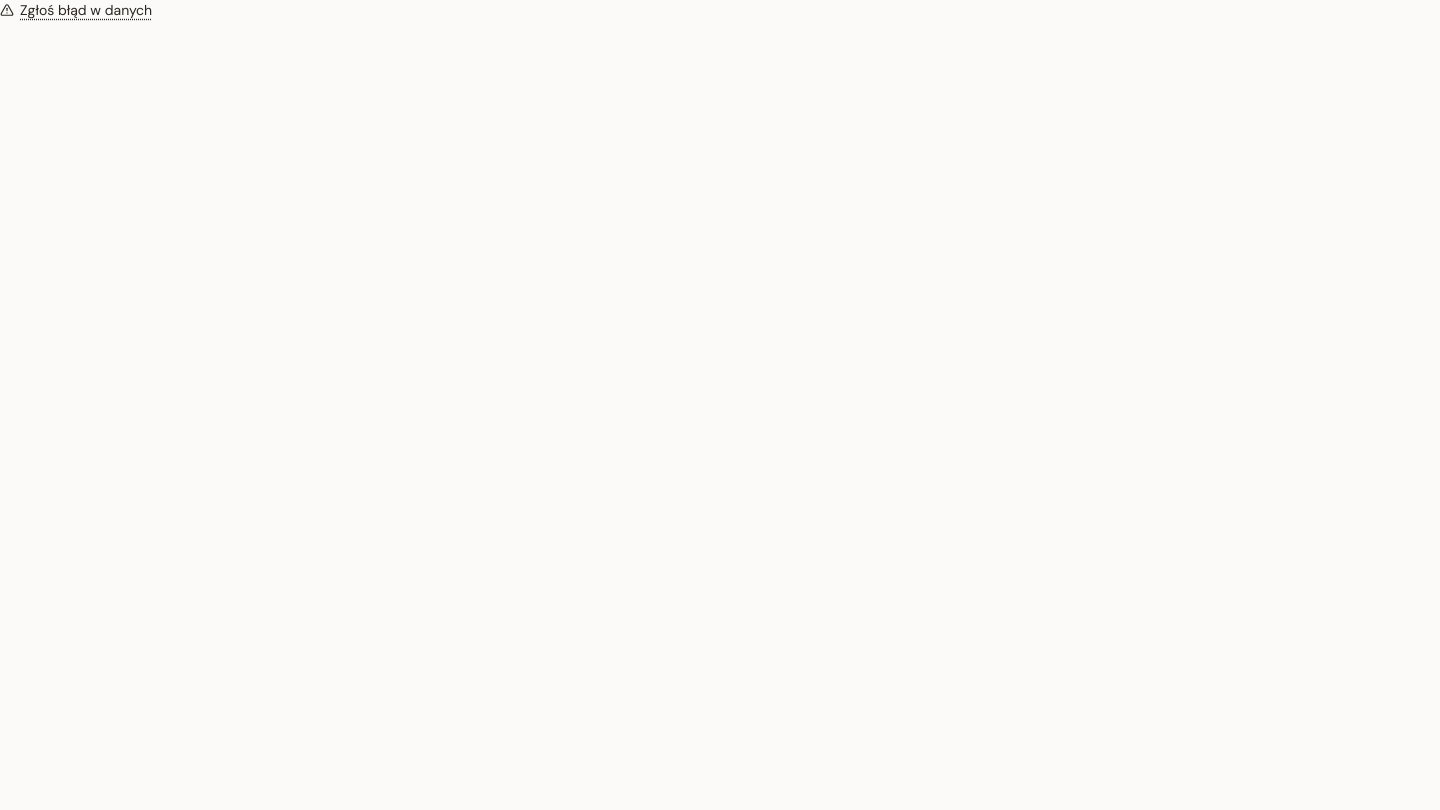
AN-12-079 — „Zgłoś błąd w danych”: komunikat przy polu + fokus › poprawienie pola zdejmuje błąd, a wysyłka idzie (1 INSERT)
This screenshot has width=1440, height=810.
Later steps or results of the test are not shown.
Click the button "Zgłoś błąd w danych".
click(76, 10)  # box [0,0,152,20]
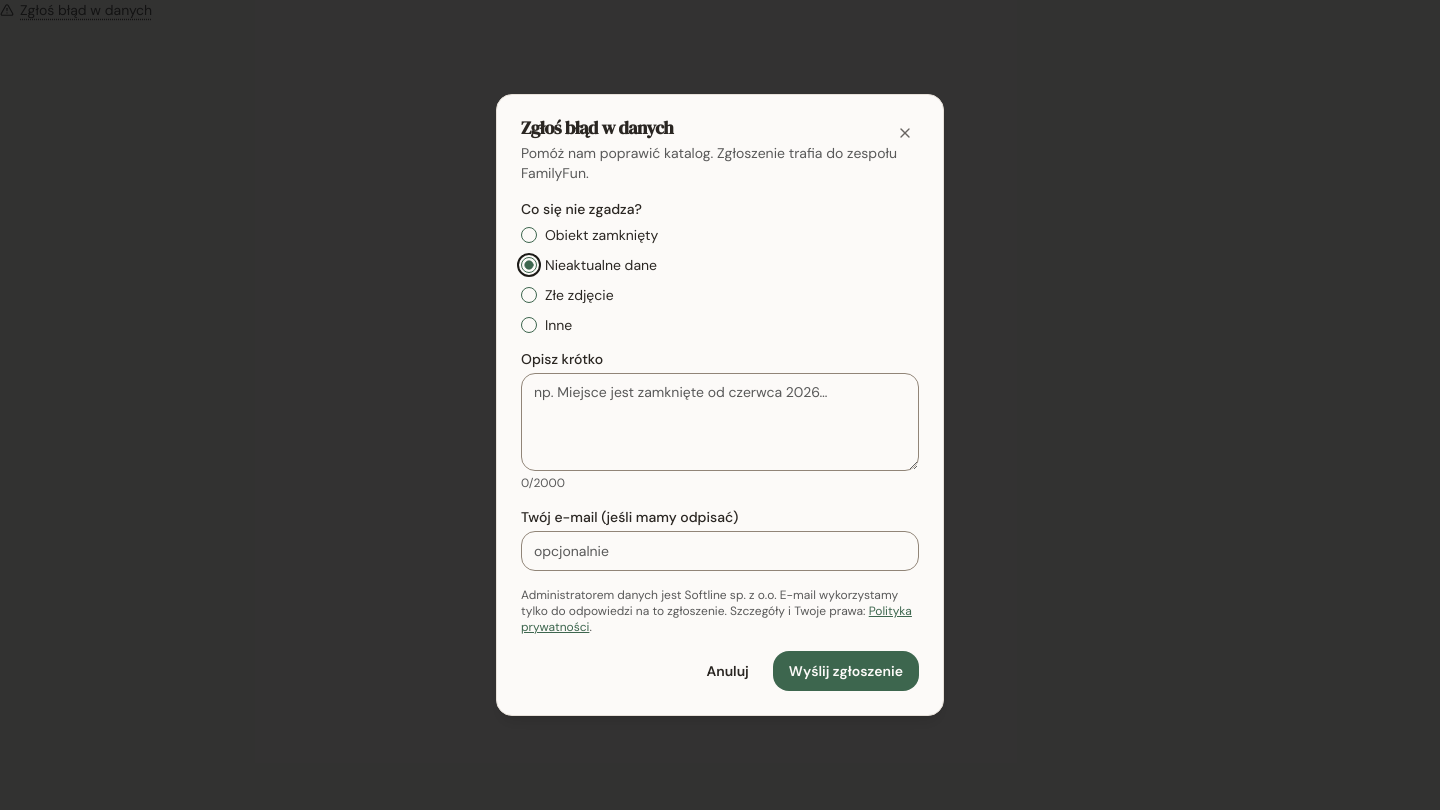
Click the button "Wyślij zgłoszenie".
click(846, 671)  # box [773,651,919,691]
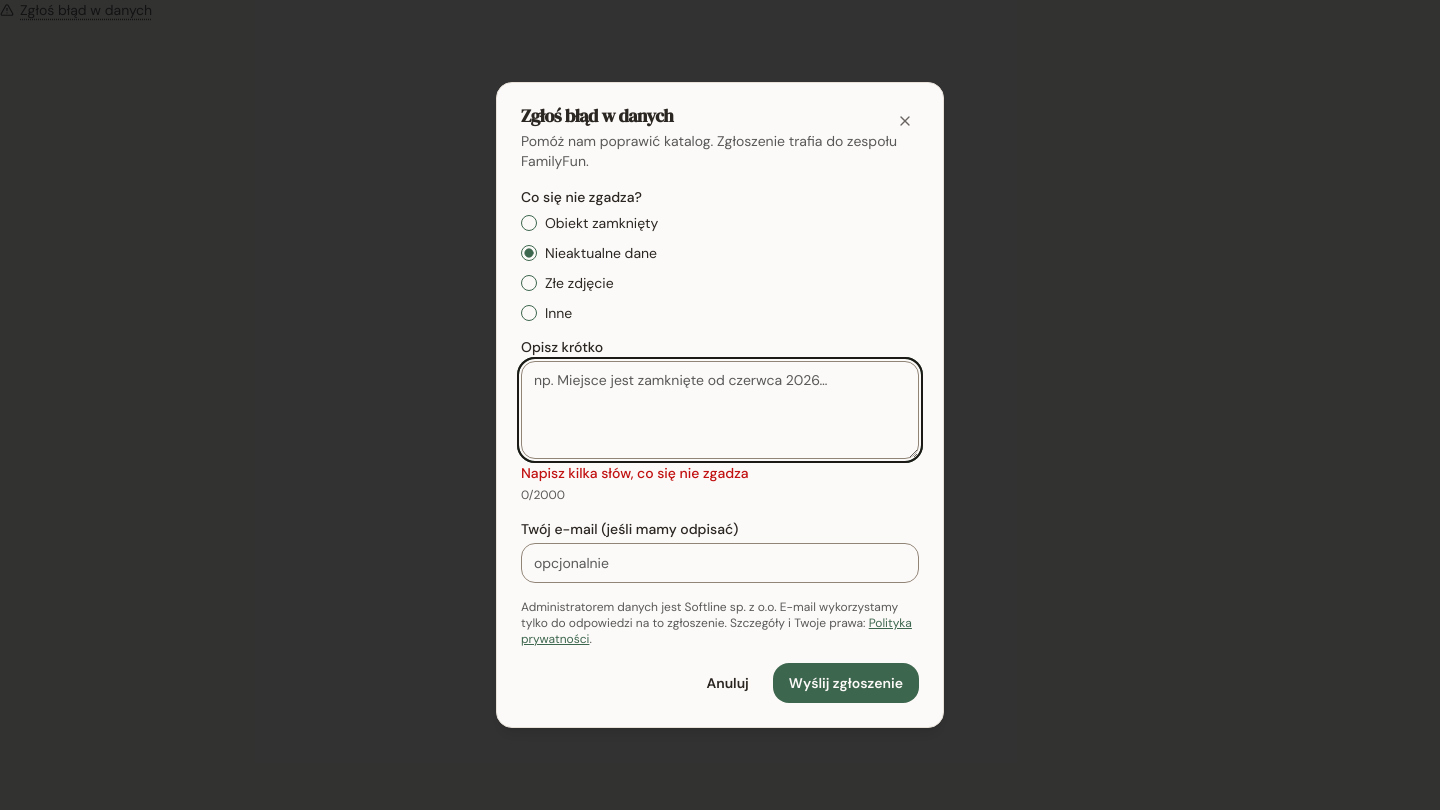
Check: the text box labelled "Opisz krótko" is marked as invalid
Type "Godziny otwarcia są nieaktualne." into the text box labelled "Opisz krótko".
click(720, 410); type("Godziny otwarcia są nieaktualne.")  # box [521,361,919,459]
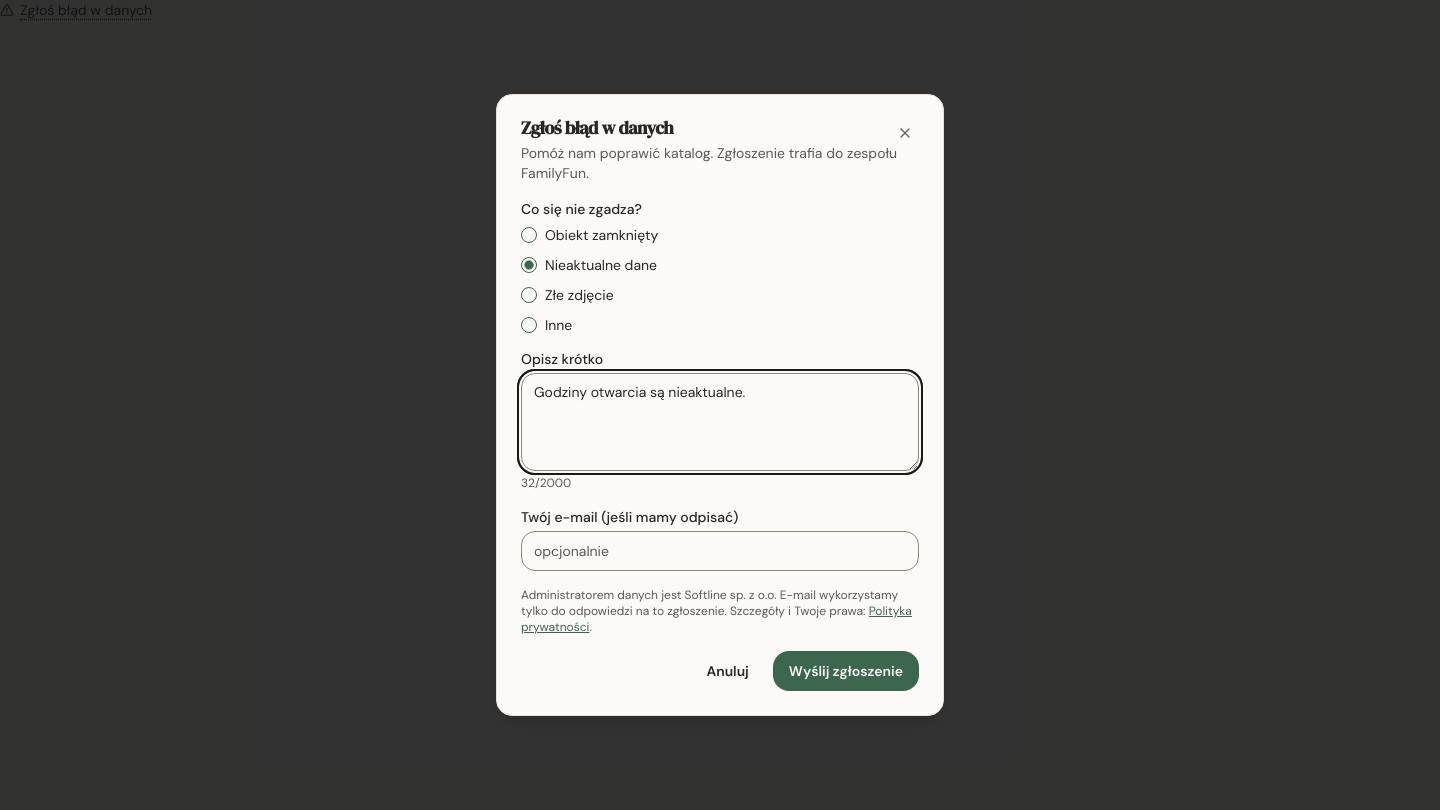
Check: the text box labelled "Opisz krótko" does not have attribute aria-invalid, box [521,373,919,471]
Check: the text box labelled "Opisz krótko" does not have attribute aria-describedby, box [521,373,919,471]
